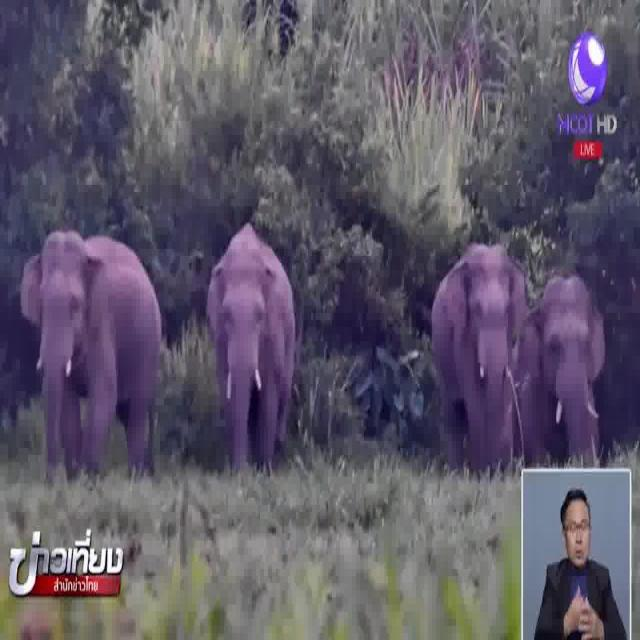Elephant: (18, 228, 157, 462), (432, 234, 524, 452), (208, 218, 297, 442), (522, 278, 610, 460)
